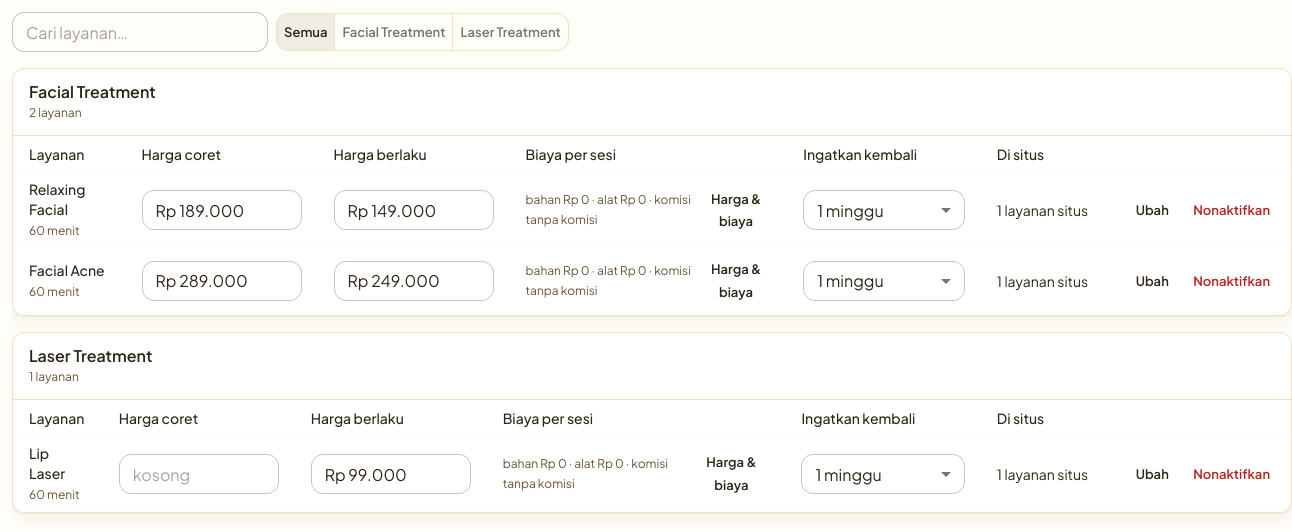
Test case: ServicePriceTable (spec D 5.4) › Batal mengembalikan nilai tersimpan
Type "1" into the field named "Harga berlaku Facial Acne".
click(414, 281); type("1")  # box [334,261,494,301]
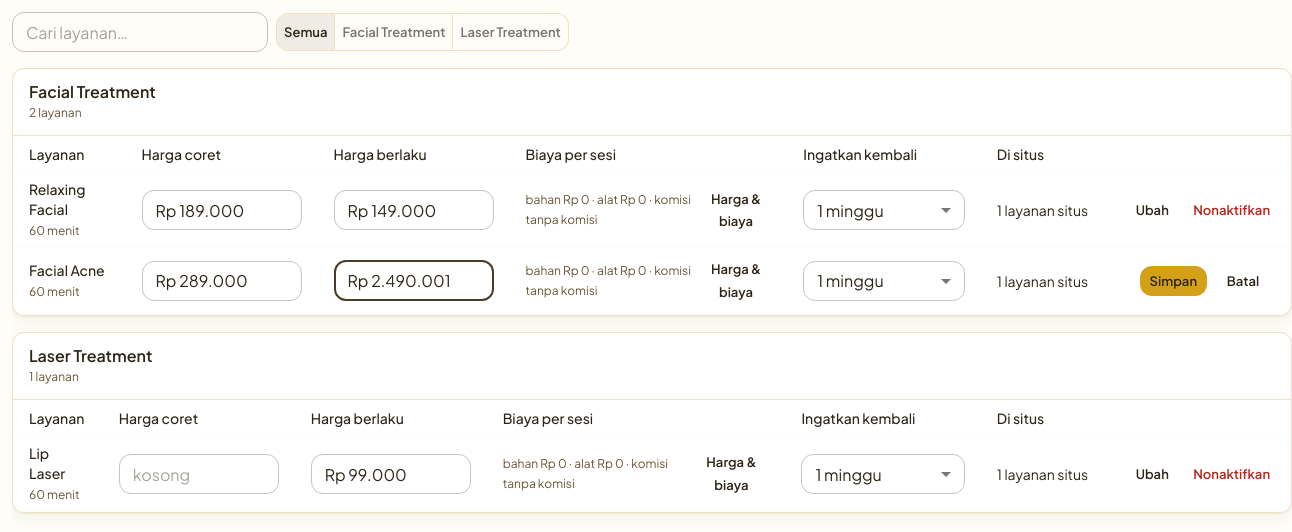
Click the button "Batal".
click(1243, 281)  # box [1211,266,1275,296]
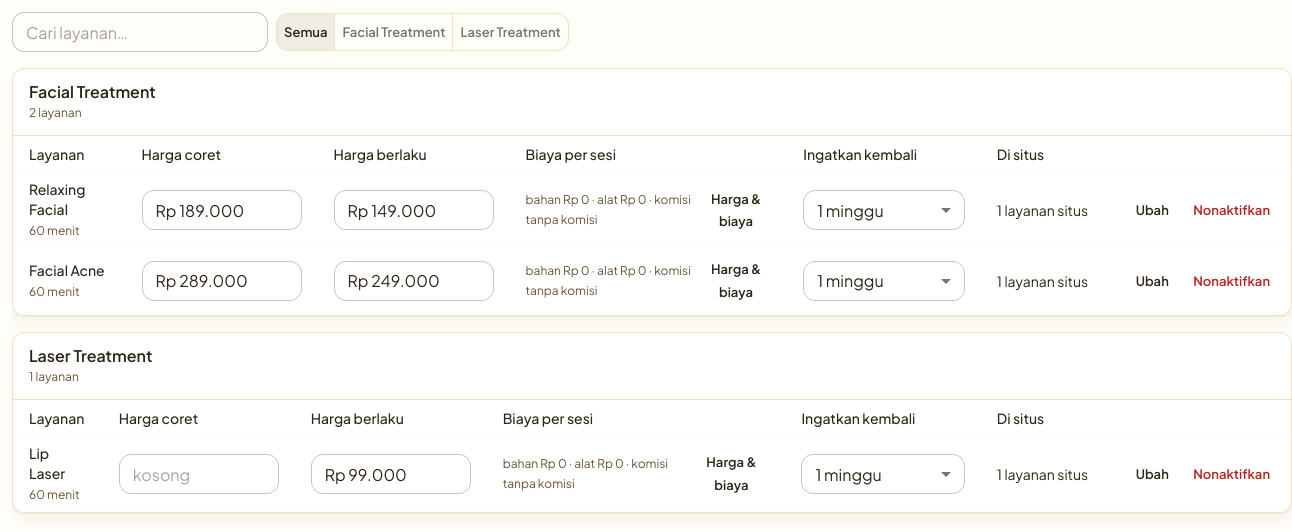
expect the field named "Harga berlaku Facial Acne" holds "Rp 249.000": met, box [334,261,494,301]
